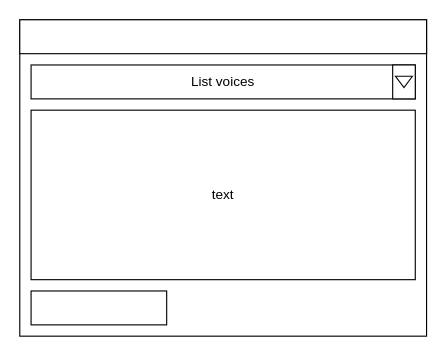
This 446x356 diagram has some shape labels left out. Here are the shapes that lost their labels. From the top down, the centre of each, then its label:
the point at 223,36: Speecher
the point at 98,307: Play
